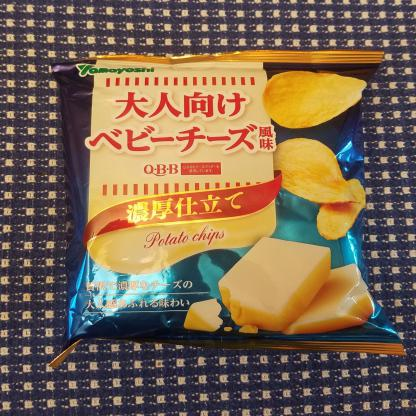potatochip: (51, 45, 416, 371)
